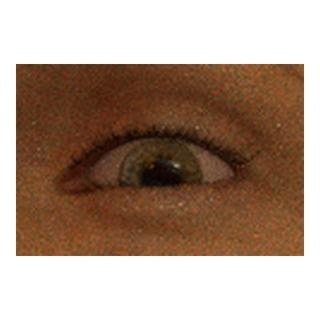pupil: (142, 161, 179, 198)
